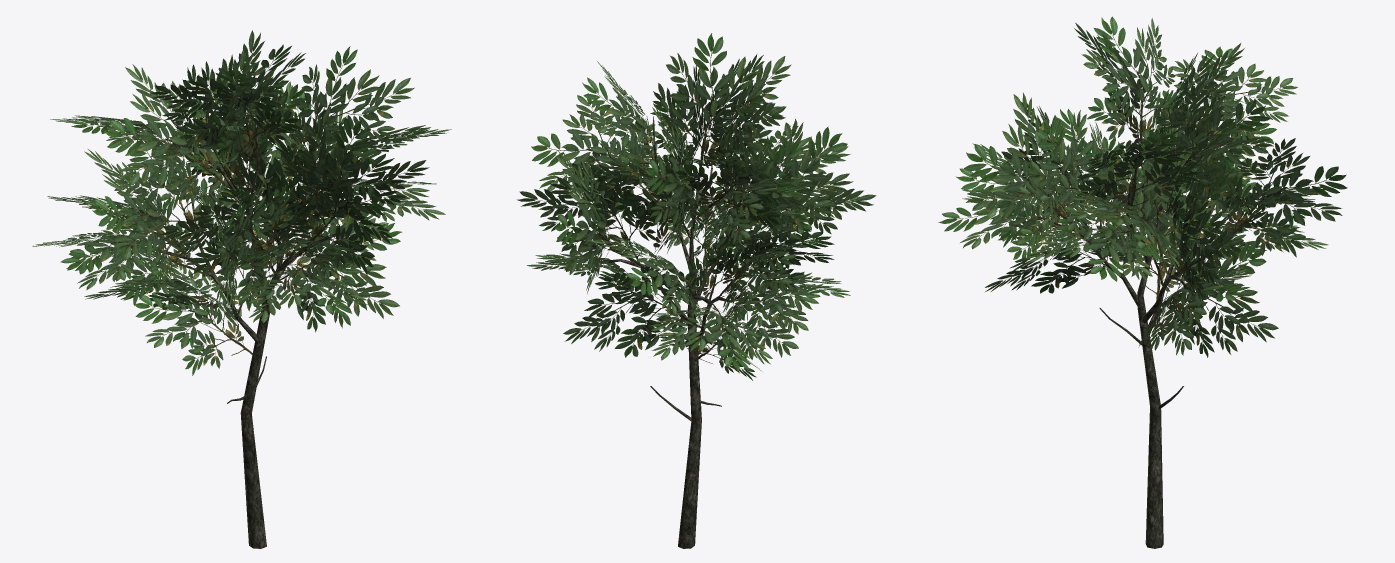
File: MK4_DisopyrosChloroxylon1.DAE
The picture shows the model from 3 angles, left to right: view 1: azimuth 30°, elevation 25°; view 2: azimuth 150°, elevation 25°; view 3: azimuth 270°, elevation 25°; orthographic projection. The views are drawn at different scales.
Visible parts, largest first — view 1: MK4_DisopyrosChloroxylon1; view 2: MK4_DisopyrosChloroxylon1; view 3: MK4_DisopyrosChloroxylon1.
Boxes of the visible parts, x1,y1,x2,y2 form: MK4_DisopyrosChloroxylon1: (32, 30, 451, 548); MK4_DisopyrosChloroxylon1: (517, 33, 876, 548); MK4_DisopyrosChloroxylon1: (938, 16, 1347, 548).
Size of what is drawn, in the model's own units: 11.33 by 12.36 by 15.45.
